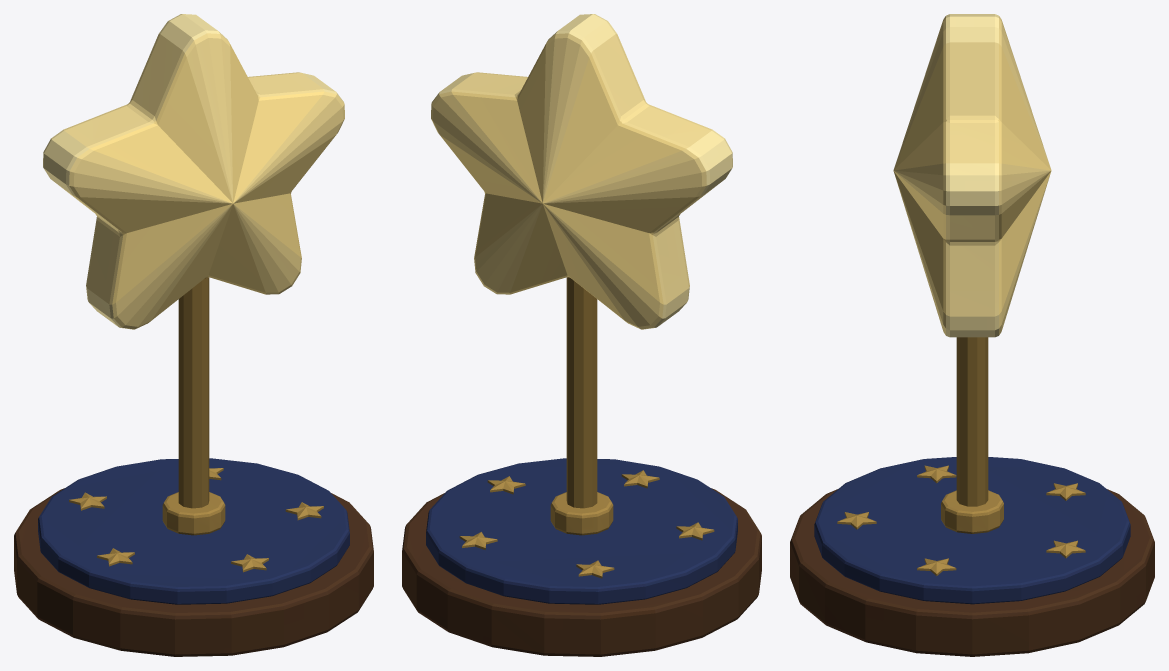
Rendered from star_lamp.glb.
The picture shows the model from 3 angles, left to right: view 1: azimuth 30°, elevation 25°; view 2: azimuth 150°, elevation 25°; view 3: azimuth 270°, elevation 25°; orthographic projection.
Visible parts, largest first — view 1: star_lamp; view 2: star_lamp; view 3: star_lamp.
Boxes of the visible parts, x1=… form: star_lamp: x1=14, y1=14, x2=373, y2=656; star_lamp: x1=402, y1=14, x2=761, y2=656; star_lamp: x1=790, y1=14, x2=1154, y2=656.
Bounding box in the file's own units: 0.3 × 0.5128 × 0.3.
